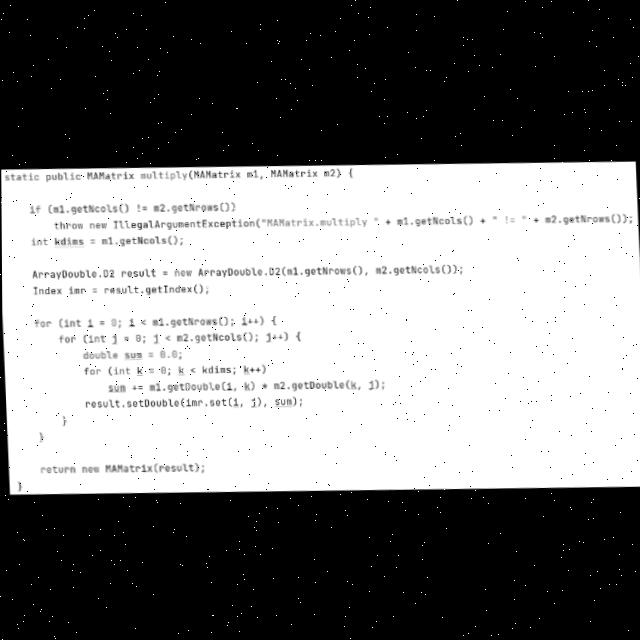code_screen: (1, 162, 640, 492)
